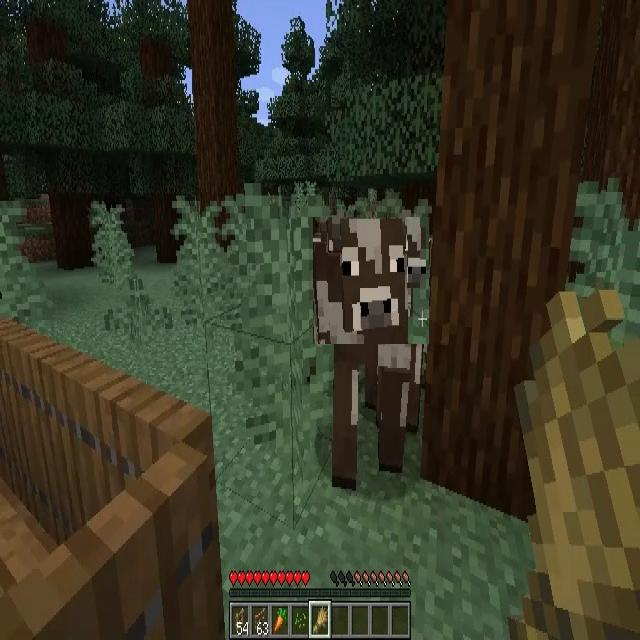cow: (334, 220, 421, 490), (313, 217, 429, 344)
